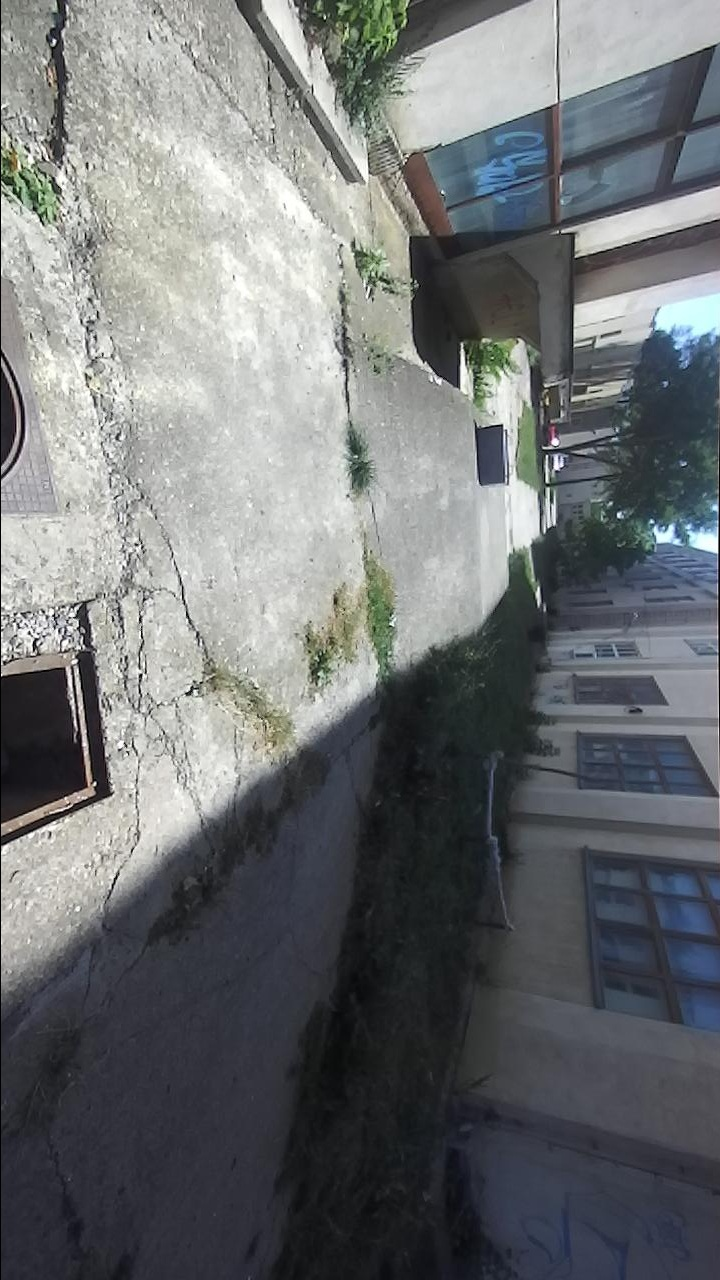drain: (3, 603, 114, 847), (1, 345, 29, 478)
